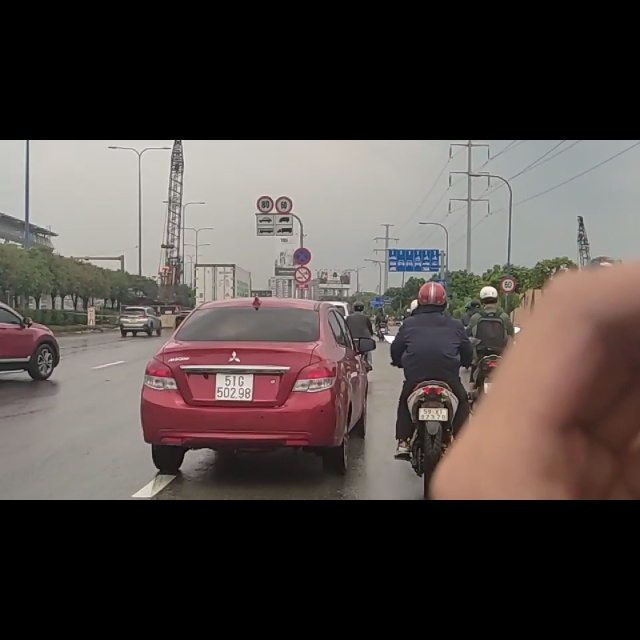bien_cam: (294, 224, 312, 256), (293, 191, 311, 221)
